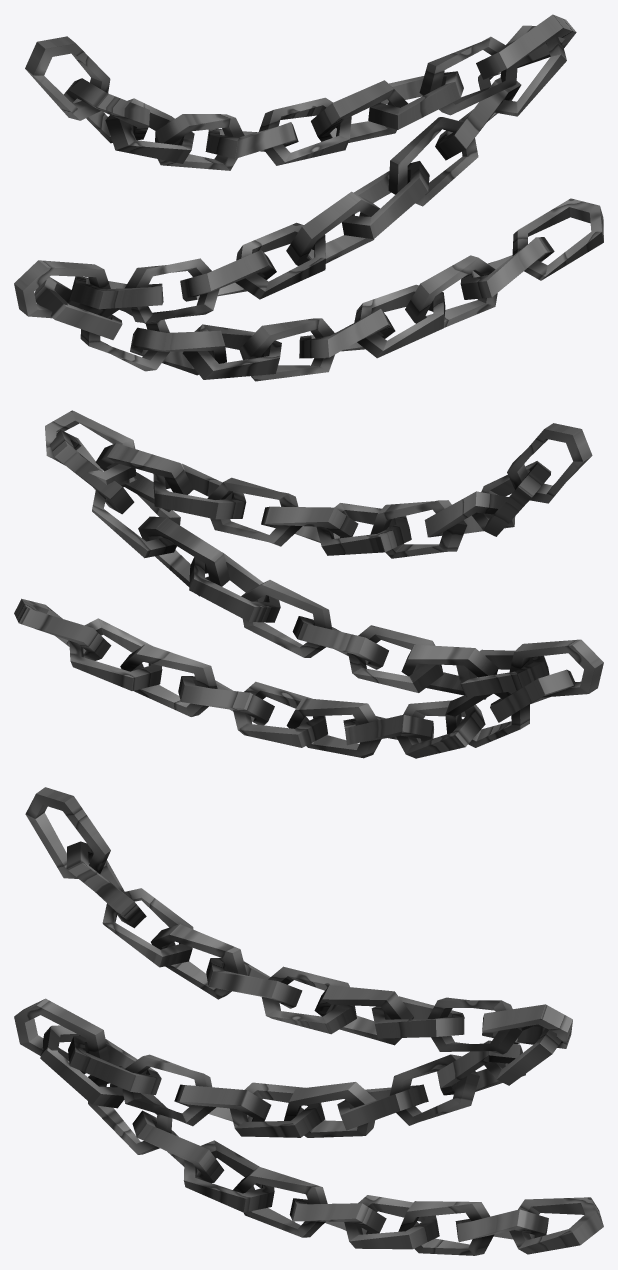
Rendered from chains(textured).fbx.
The picture shows the model from 3 angles, top to bottom: view 1: azimuth 30°, elevation 25°; view 2: azimuth 150°, elevation 25°; view 3: azimuth 330°, elevation 25°; orthographic projection. The views are drawn at different scales.
Parts seen in each view (by area): view 1: Plane.003; view 2: Plane.003; view 3: Plane.003.
Boxes of the visible parts, box(x1,y1,x2,y2) form: Plane.003: box(14, 14, 603, 381); Plane.003: box(14, 410, 603, 758); Plane.003: box(14, 787, 603, 1255).
Bounding box in the file's own units: 1030 × 653 × 123.
Materials: 1 (1 with a texture image).
